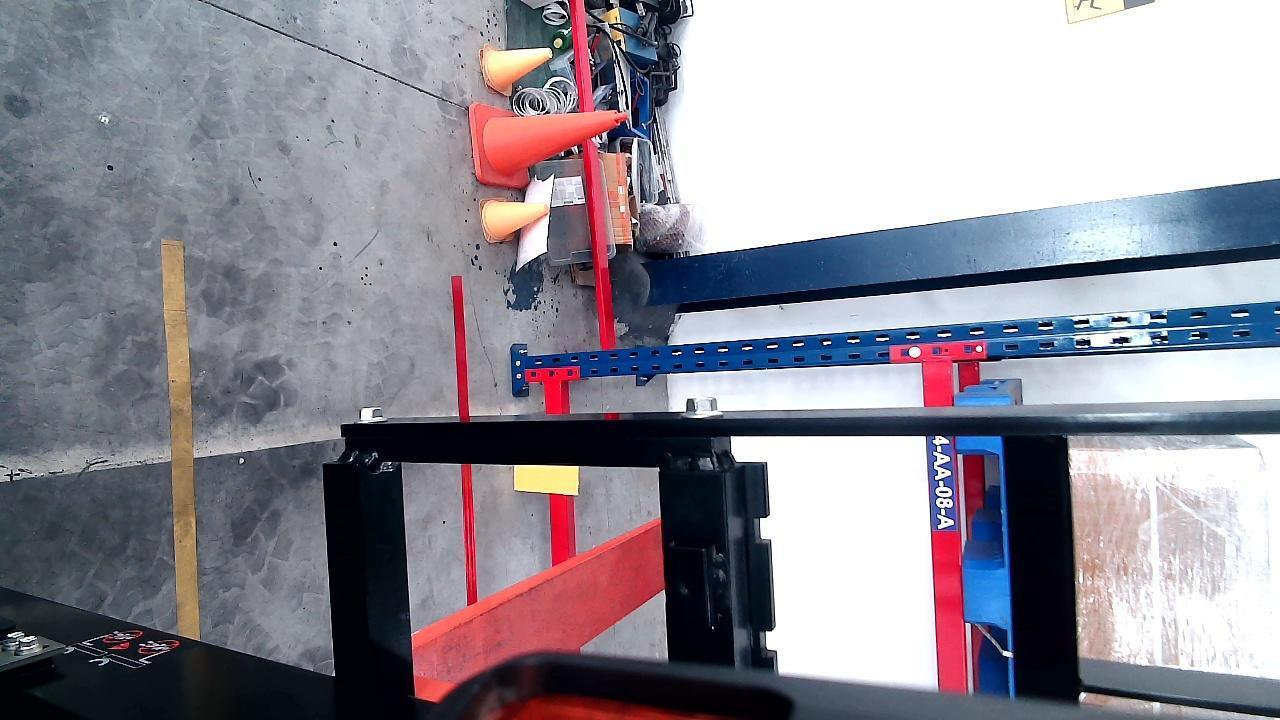h_rack: (924, 396, 970, 697)
orange_strip: (515, 464, 578, 493)
red_line: (448, 267, 475, 410)
small_pallet: (958, 430, 1015, 688)
yellow_line: (167, 234, 199, 640)
